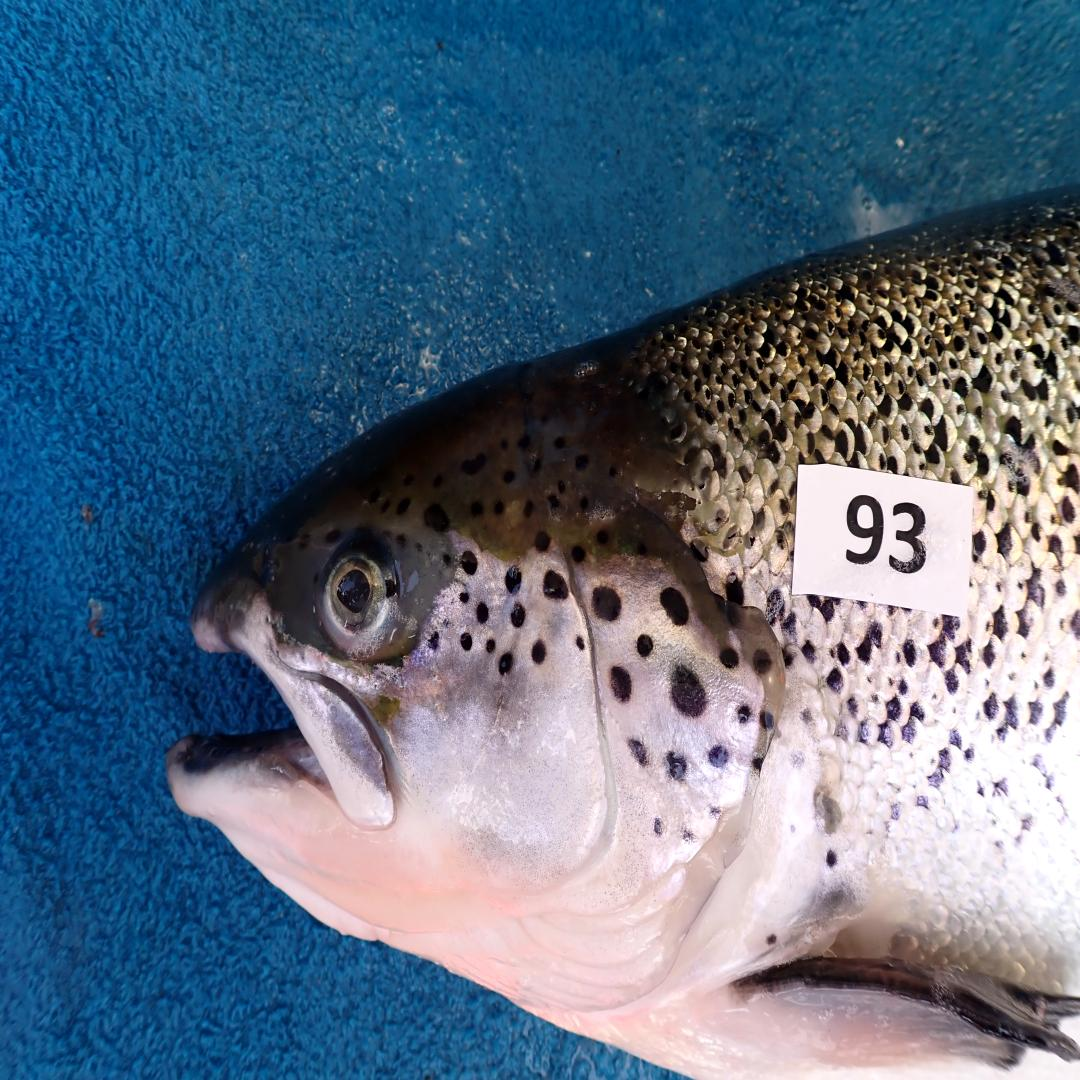roi: (395, 537, 766, 1028)
